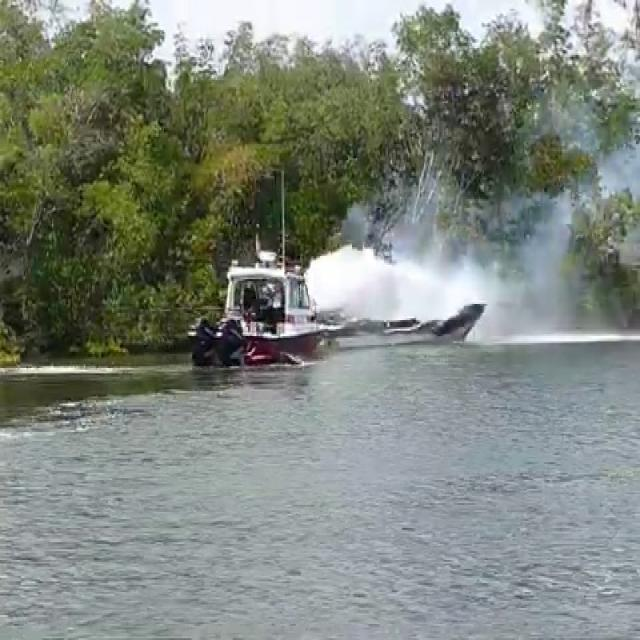Smoke: (305, 160, 587, 336)
